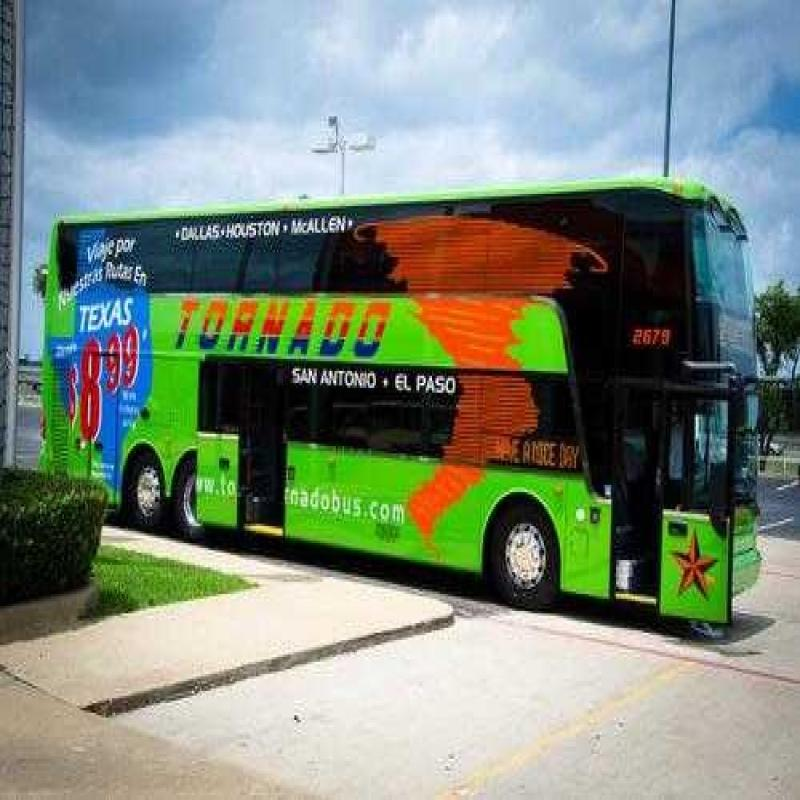bus: (45, 161, 779, 674)
